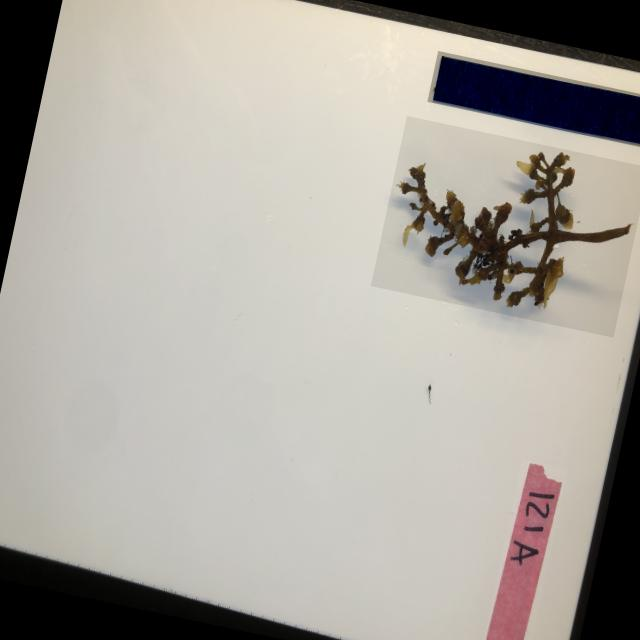index: (476, 459, 566, 640)
measure_label: (425, 50, 640, 151)
rachis_cluster: (369, 115, 640, 337)
